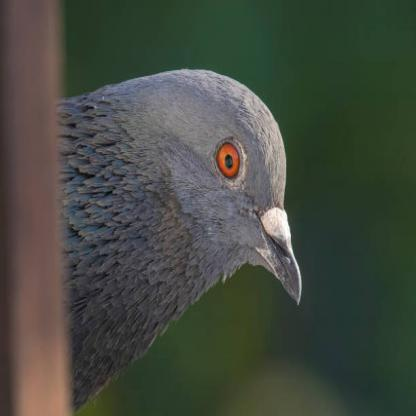Flying Rat: (37, 62, 319, 410)
